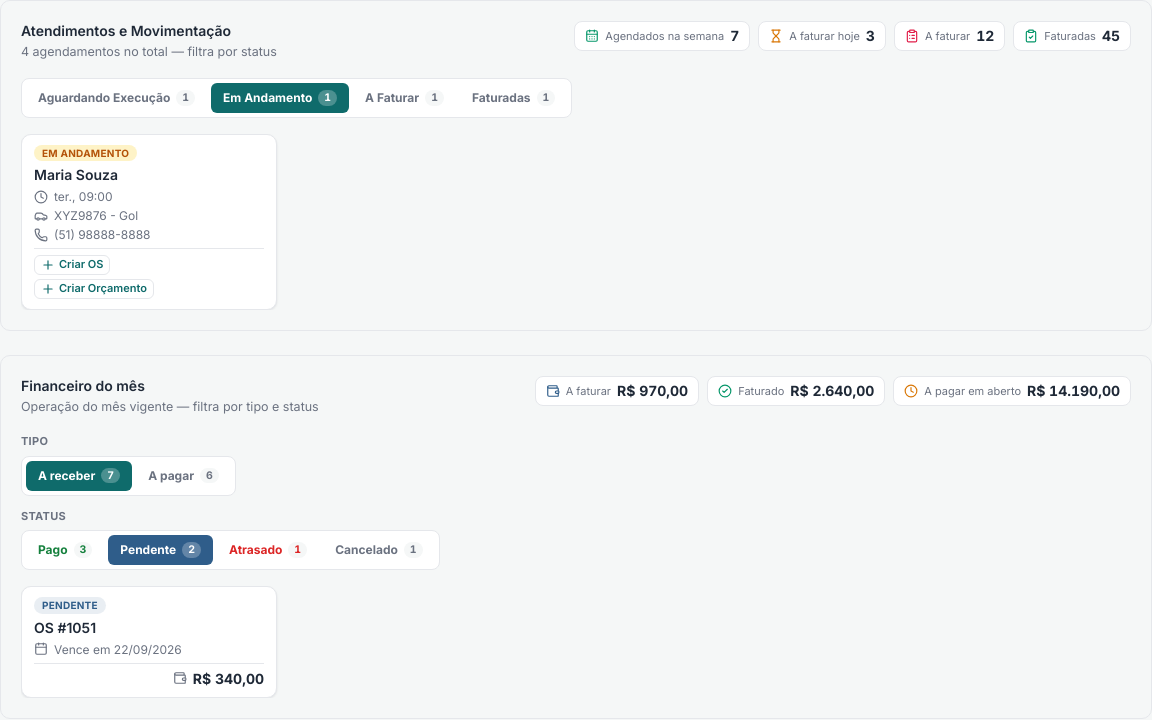
<Dashboard> › lançamento sem cobrança nesse filtro mostra o estado vazio
Check: the text "OS #1051" is shown, box 34,618 -> 96,636
Click the button "Cancelado 1".
click(379, 550)  # box 323,535 -> 435,565
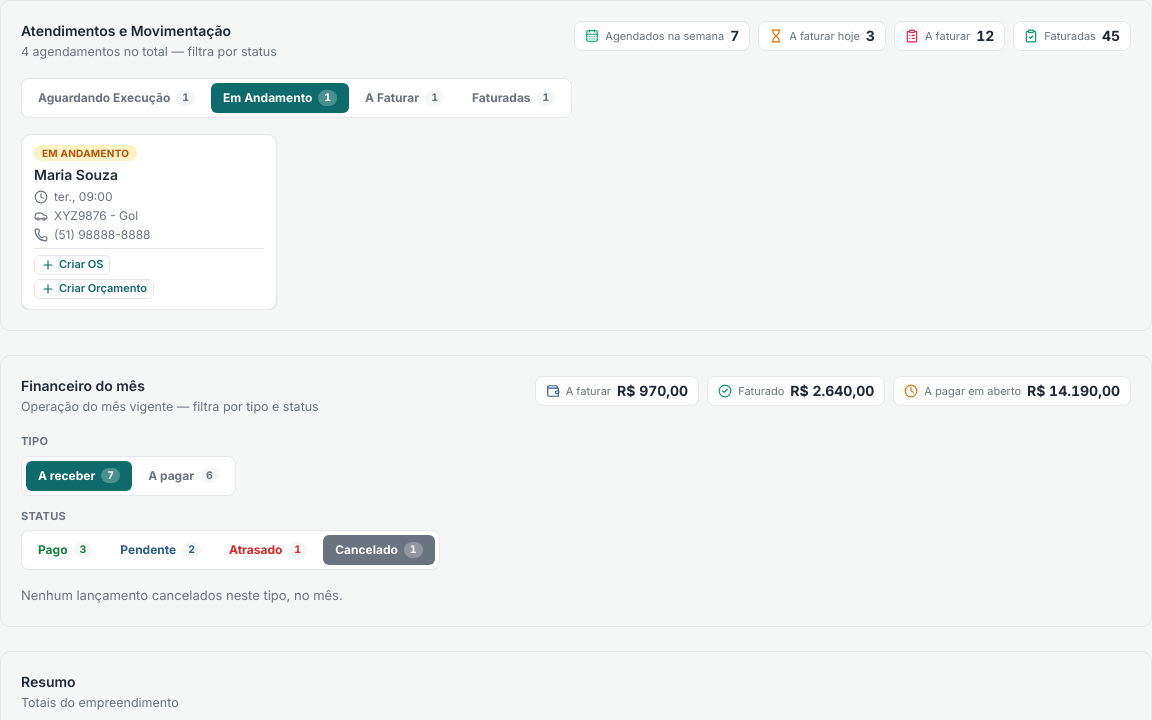
Check: the text "Nenhum lançamento cancelados neste tipo, no mês." is shown, box 21,587 -> 343,603
